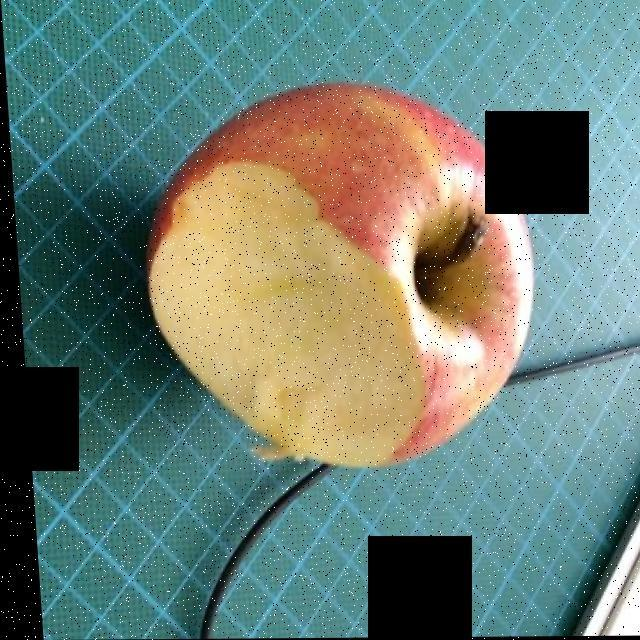apple: (150, 90, 516, 465)
